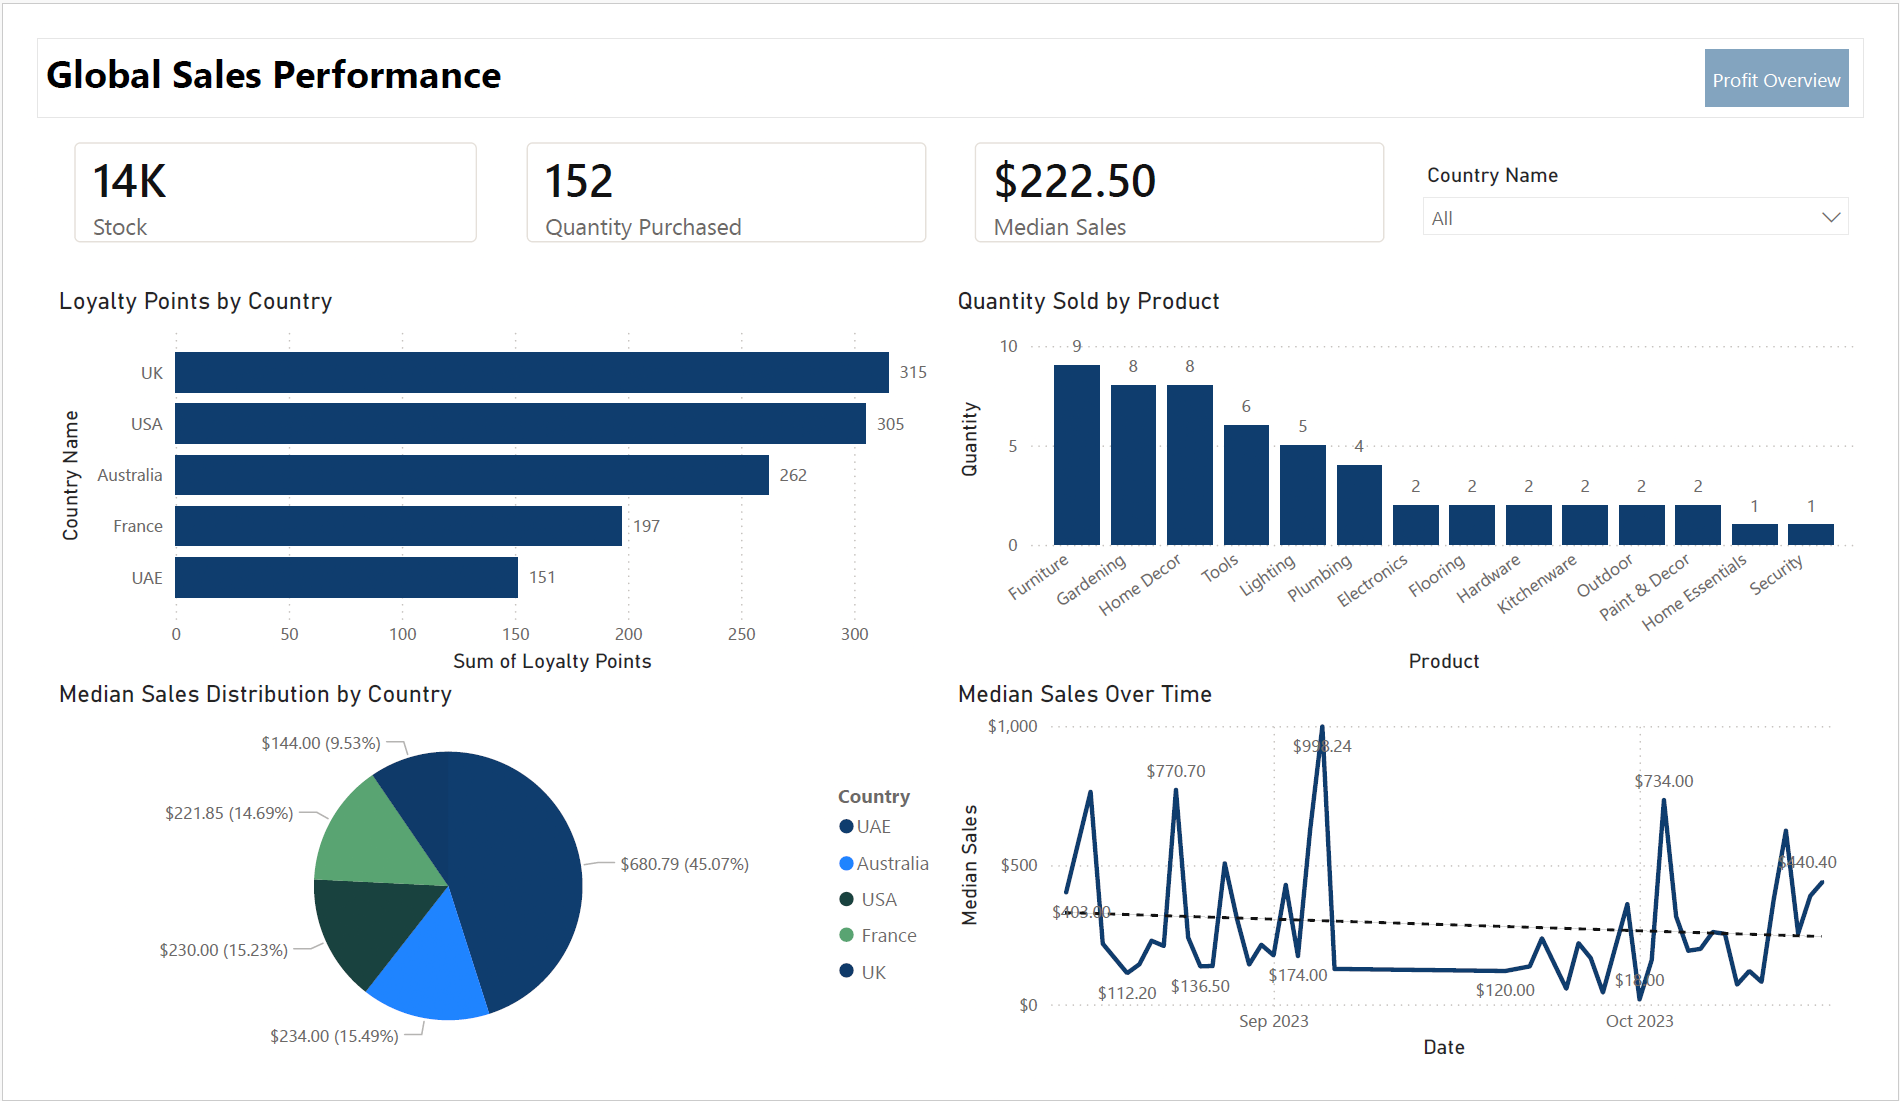

Layout of this report page (visuals, bound fields, positions):
{"tool":"powerbi","page":{"name":"Sales Overview","canvas":[1280,720],"ordinal":0},"visuals":[{"type":"clusteredBarChart","title":"Loyalty Points by Country","fields":{"Category":["Sales in USD.Country Name"],"Y":["Sum(Sales in USD. Loyalty Points)"]},"box":[10,174,630,275],"z":0},{"type":"columnChart","title":"Quantity Sold by Product","fields":{"Category":["Sales in USD.Product Category"],"Y":["CountNonNull(Sales in USD.Quantity Purchased)"]},"box":[640,174,640,275],"z":1000},{"type":"pieChart","title":"Median Sales Distribution by Country","fields":{"Category":["Sales in USD.Country Name"],"Y":["Sales in USD.Median Sales"]},"box":[10,449,630,271],"z":2000},{"type":"lineChart","title":"Median Sales Over Time","fields":{"Y":["Sales in USD.Median Sales"],"Category":["CalendarTable.Date"]},"box":[640,449,640,271],"z":3000},{"type":"cardVisual","title":"Stock","fields":{"Data":["Sum(Sales in USD. Stock  )"]},"box":[9,56,316,104],"z":4000},{"type":"cardVisual","title":"Quantity Purchased","fields":{"Data":["Sum(Sales in USD.Quantity Purchased)"]},"box":[326,56,314,104],"z":5000},{"type":"cardVisual","title":"Median Sales","fields":{"Data":["Sales in USD.Median Sales"]},"box":[640,56,321,104],"z":6000},{"type":"slicer","fields":{"Values":["Sales in USD.Country Name"]},"box":[961,83,319,77],"z":7000},{"type":"textbox","box":[0,0,1280,56],"z":8000},{"type":"actionButton","box":[1169,8,100,40],"z":9000}]}

Visuals, with their boxes in screenshot pixels (x1, y1, x2, y2), scaled from the page's 1280x720 canvas onto the 1900x1101 screenshot:
"Loyalty Points by Country" clusteredBarChart: pyautogui.locateOnScreen(15, 266, 950, 687)
"Quantity Sold by Product" columnChart: pyautogui.locateOnScreen(950, 266, 1899, 687)
"Median Sales Distribution by Country" pieChart: pyautogui.locateOnScreen(15, 687, 950, 1100)
"Median Sales Over Time" lineChart: pyautogui.locateOnScreen(950, 687, 1899, 1100)
"Stock" cardVisual: pyautogui.locateOnScreen(13, 86, 482, 245)
"Quantity Purchased" cardVisual: pyautogui.locateOnScreen(484, 86, 950, 245)
"Median Sales" cardVisual: pyautogui.locateOnScreen(950, 86, 1426, 245)
slicer - Sales in USD.Country Name: pyautogui.locateOnScreen(1426, 127, 1899, 245)
textbox: pyautogui.locateOnScreen(0, 0, 1899, 86)
actionButton: pyautogui.locateOnScreen(1735, 12, 1884, 73)
